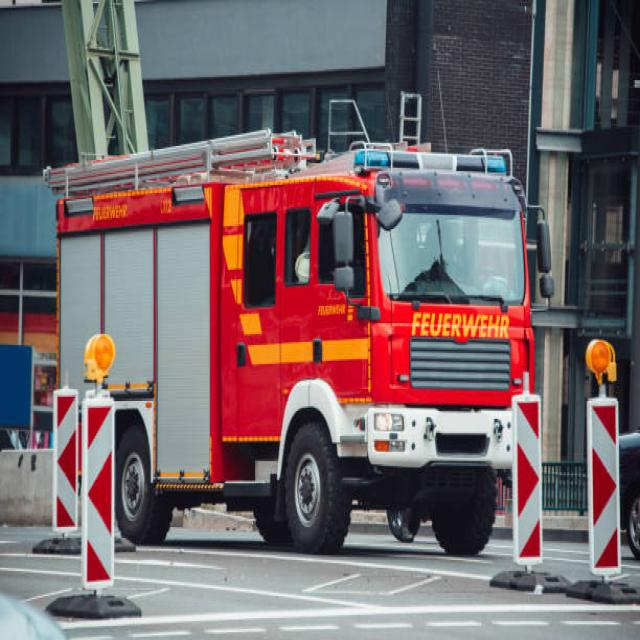emergency: (45, 131, 534, 554)
